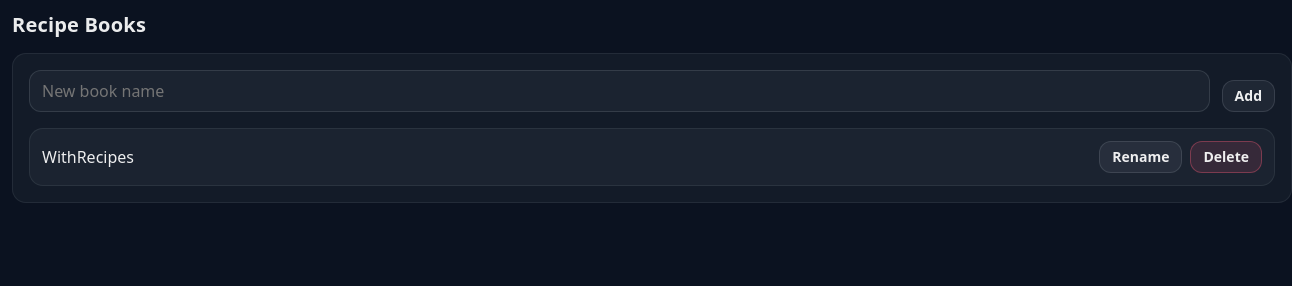
BookListPage › shows a conflict message when deleting a book with recipes
This screenshot has width=1292, height=286.
Expected: the text "WithRecipes" is shown, [42,146,134,168]
What coordinates should you click on to do the following:
click the button "Delete"
I would click on:
 (1226, 157)
Its box is [1190,141,1262,173].
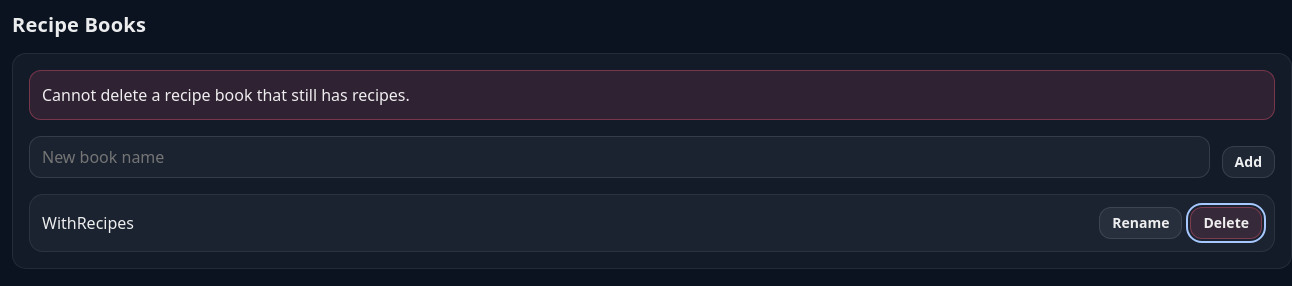
Now the message shows "Cannot delete a recipe book", box [42,84,410,106]
